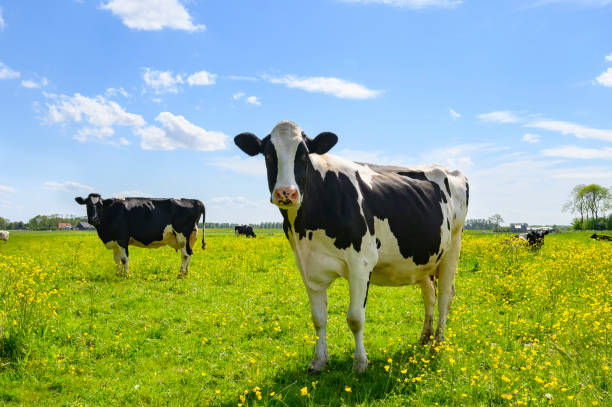cow: (229, 118, 488, 378), (59, 185, 218, 284)
